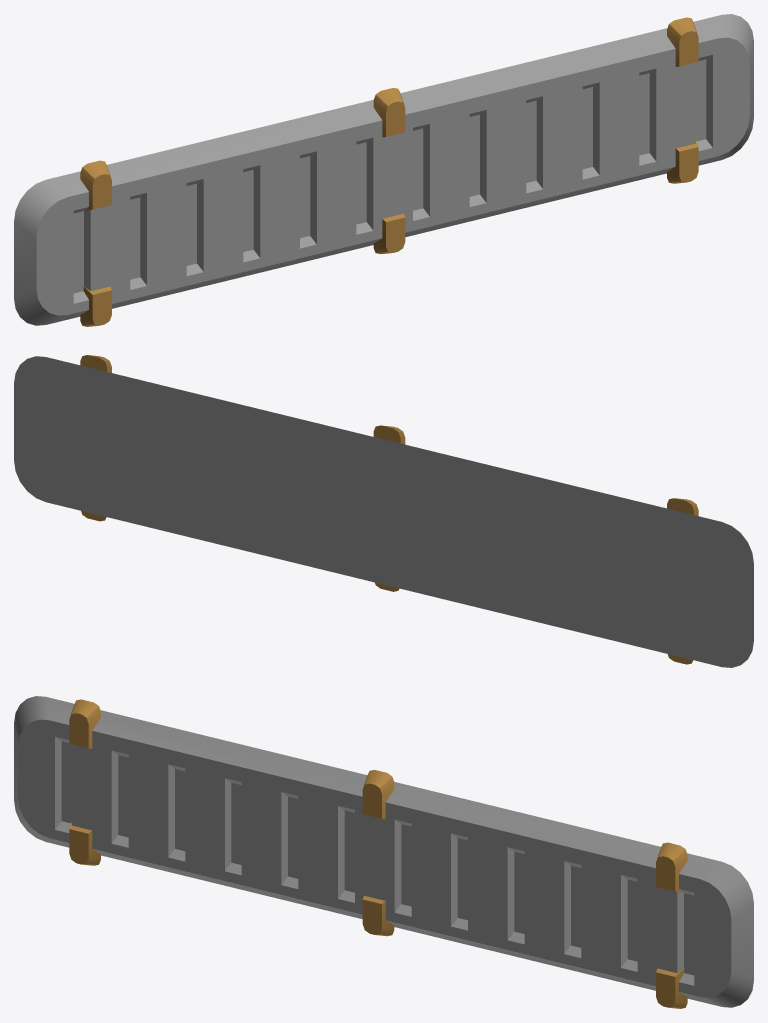
The model's file is Details_Vent_3.glb.
The picture shows the model from 3 angles, top to bottom: view 1: azimuth 30°, elevation 25°; view 2: azimuth 150°, elevation 25°; view 3: azimuth 330°, elevation 25°; orthographic projection.
Visible parts, largest first — view 1: Details_Vent_3; view 2: Details_Vent_3; view 3: Details_Vent_3.
Boxes of the visible parts, left/top/right/bottom form: Details_Vent_3: left=14, top=14, right=753, bottom=326; Details_Vent_3: left=14, top=355, right=753, bottom=667; Details_Vent_3: left=14, top=696, right=753, bottom=1008.
Bounding box in the file's own units: 1.05 × 0.2235 × 0.0287.
